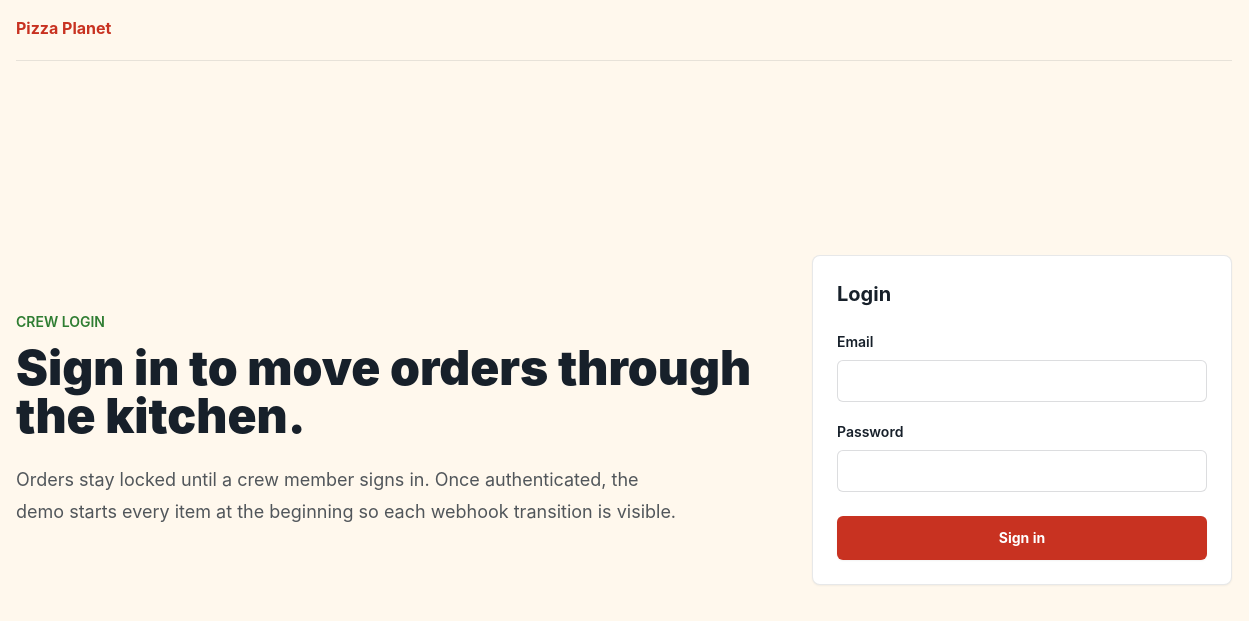
Test: HomePage › refreshes orders after an item move so final order status is visible
Type "mario@pizzaplanet.test" into the field named "email" at (1022, 380), box 837,360 -> 1207,402
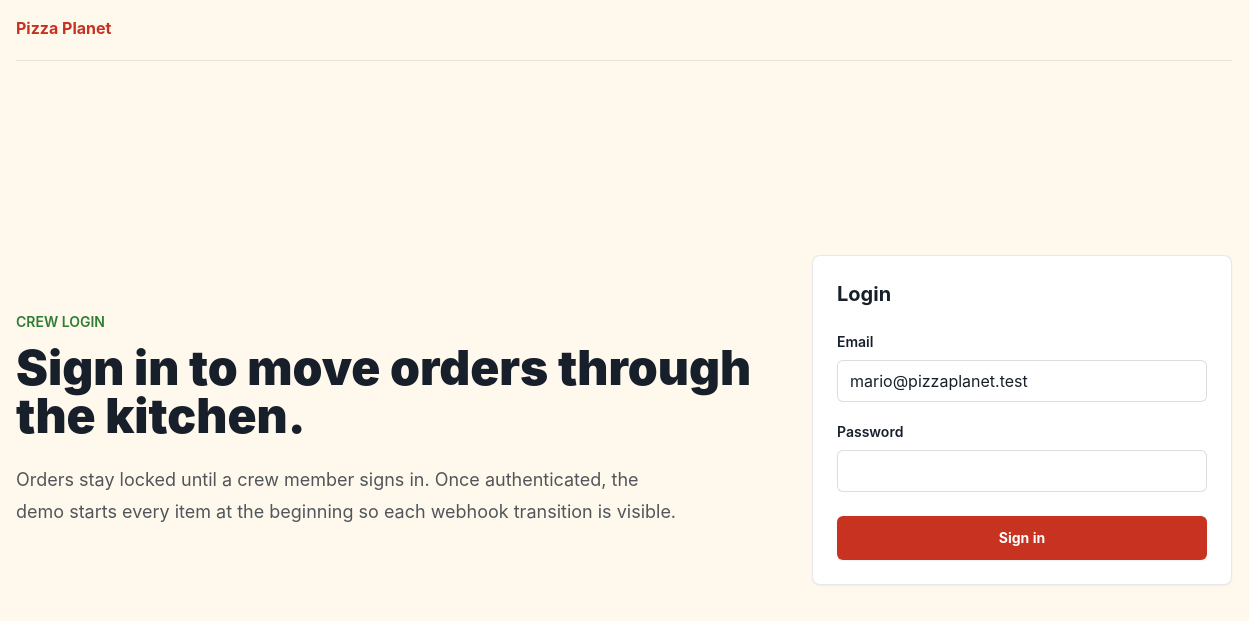
Type "ilovepizza" into the password field named "password" at (1022, 470), box 837,450 -> 1207,492
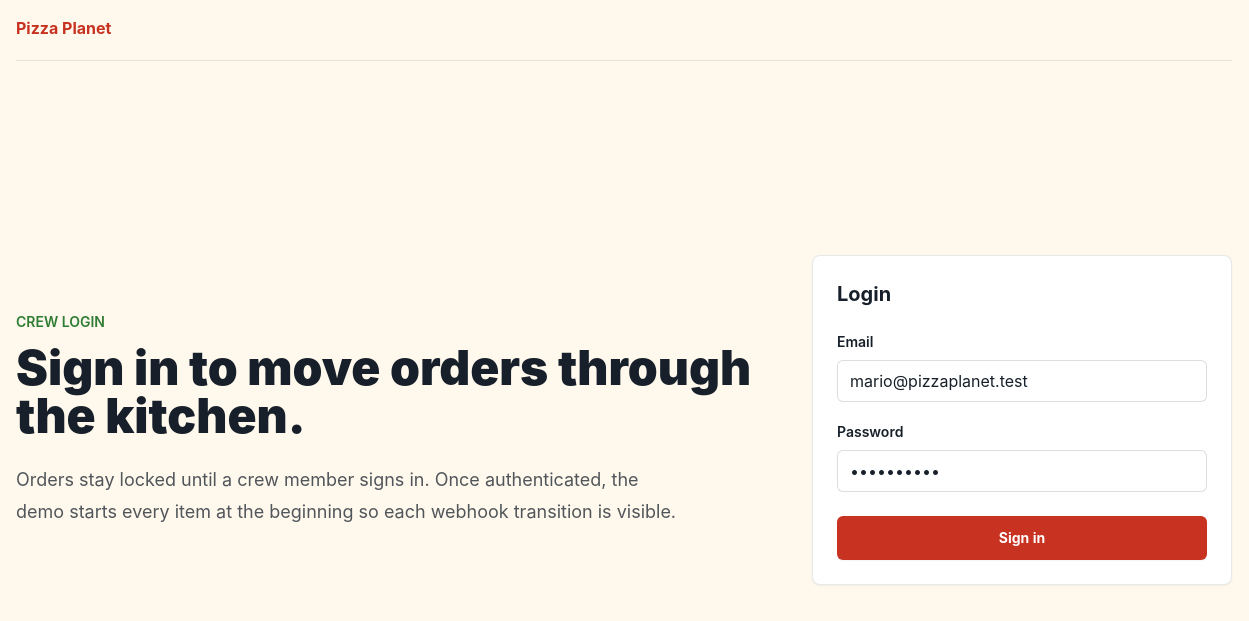
Submit the form, box 812,254 -> 1232,584
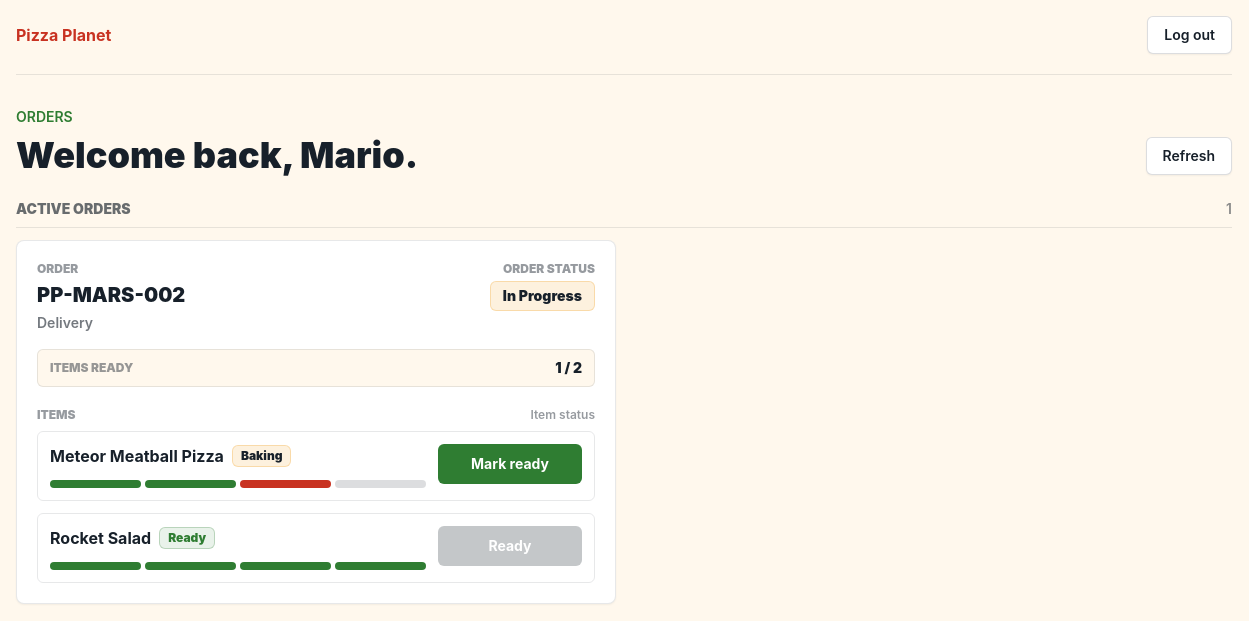
Click the button "Mark ready" at (510, 464), box 438,444 -> 582,484
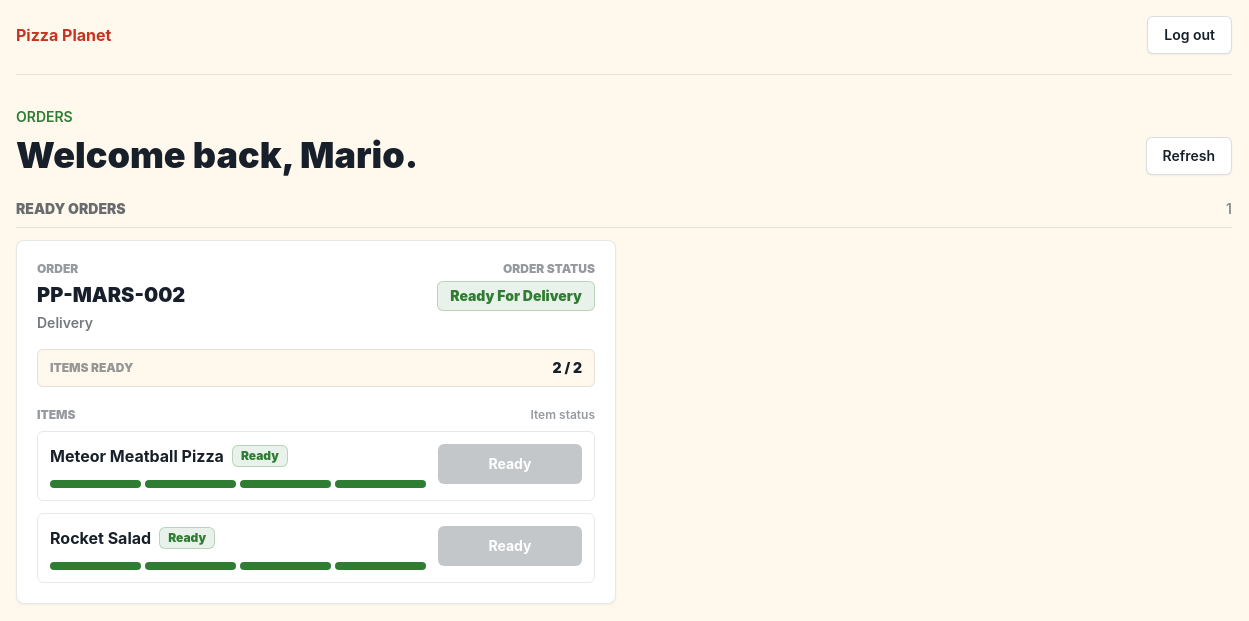
Now the text "Ready orders" is shown, box 16,199 -> 126,219
Now the text "ready for delivery" is shown, box 437,281 -> 595,311
Now the text "2 / 2" is shown, box 552,358 -> 582,378
